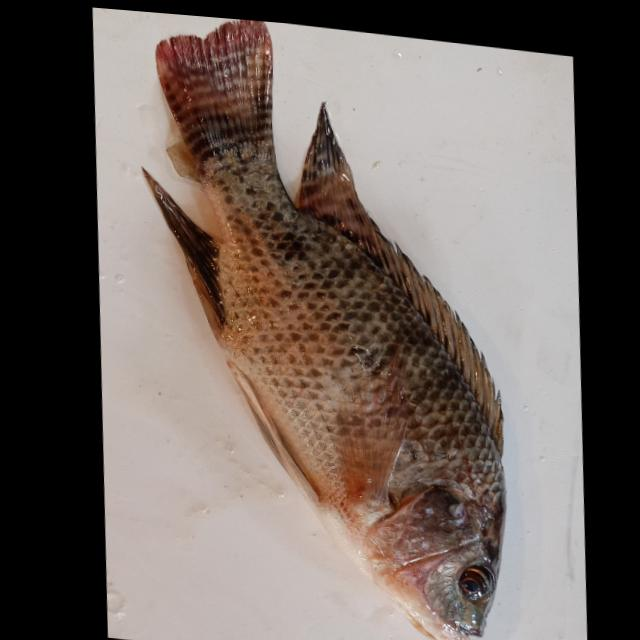Tilapia: (117, 10, 530, 640)
